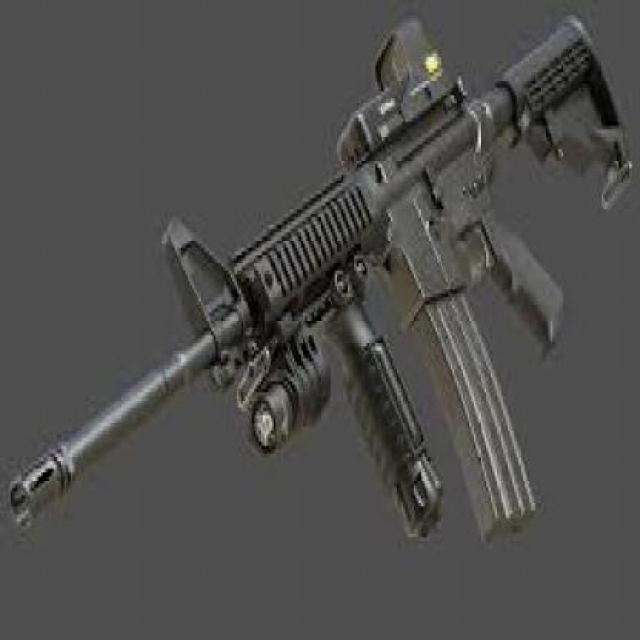weapon: (8, 12, 634, 546)
